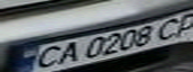0: (81, 35, 106, 60), (118, 27, 142, 53)
2: (103, 30, 127, 56)
8: (133, 22, 163, 47)
A: (51, 39, 84, 66)
C: (24, 43, 66, 71), (148, 16, 190, 43)
P: (166, 10, 193, 38)
